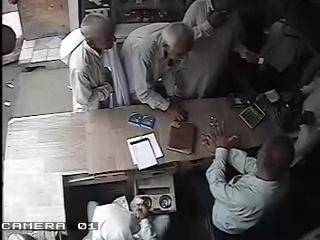Normal: (201, 132, 295, 239), (175, 0, 263, 100), (58, 12, 132, 113), (120, 21, 195, 114), (83, 193, 164, 240)
